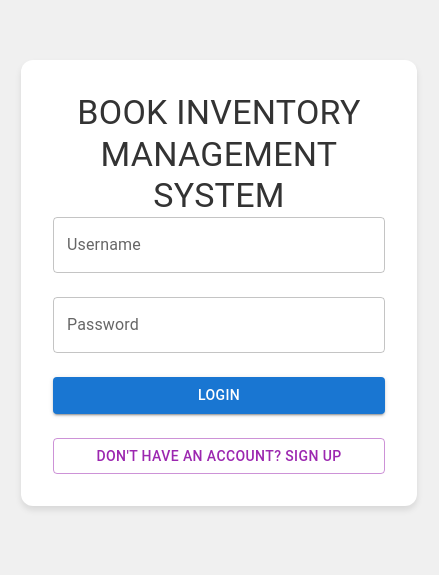
Login Component › shows password regex error
Type "short" into the password field labelled "Password" at (219, 326), box [53,298,385,354]
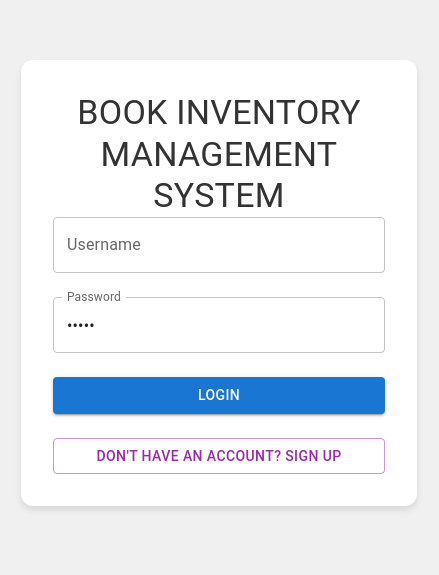
Click the button "Login" at (219, 396), box [53,378,385,414]
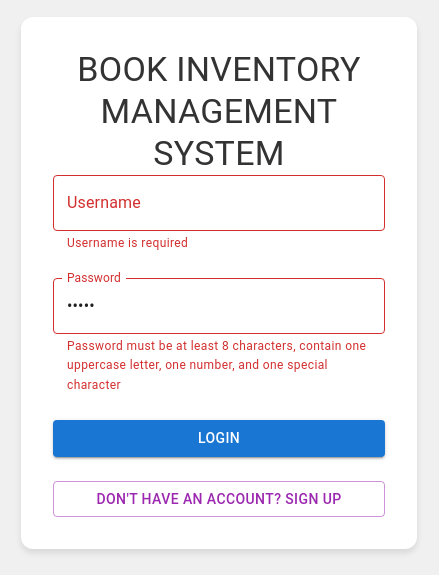
Now the text "Password must be at least 8 characters" is shown, box [67,339,366,392]
